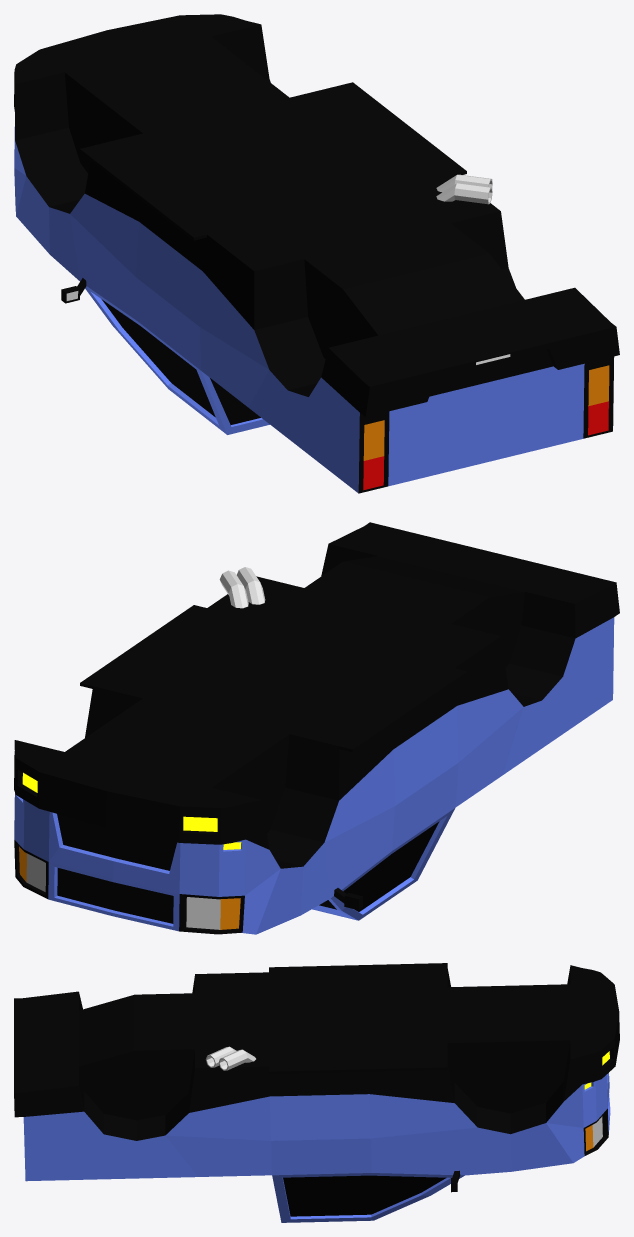
File: Truck.fbx
The picture shows the model from 3 angles, top to bottom: view 1: azimuth 30°, elevation 25°; view 2: azimuth 150°, elevation 25°; view 3: azimuth 270°, elevation 25°; orthographic projection. The views are drawn at different scales.
Parts seen in each view (by area): view 1: Truck.Body; view 2: Truck.Body; view 3: Truck.Body.
Part boxes in pixels (left/top/right/bottom): Truck.Body: left=14, top=14, right=619, bottom=493; Truck.Body: left=14, top=522, right=619, bottom=934; Truck.Body: left=14, top=963, right=619, bottom=1222.
Size of the model in its own units: 1988 by 1458 by 4475.
